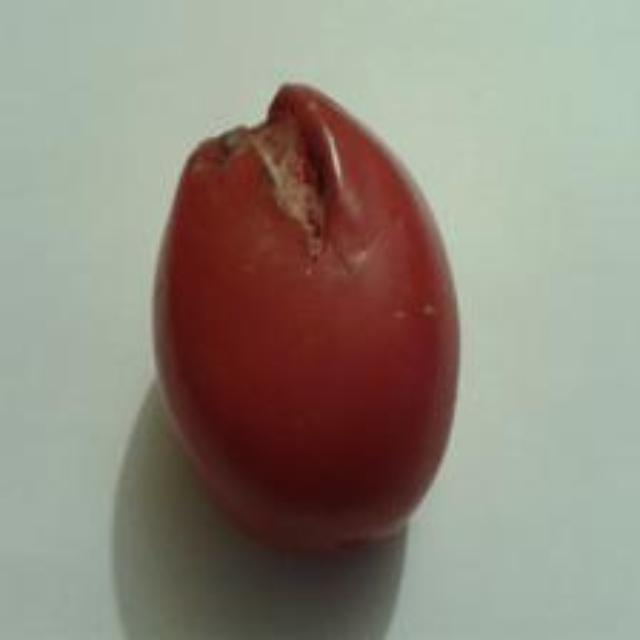defect: (148, 83, 470, 554)
